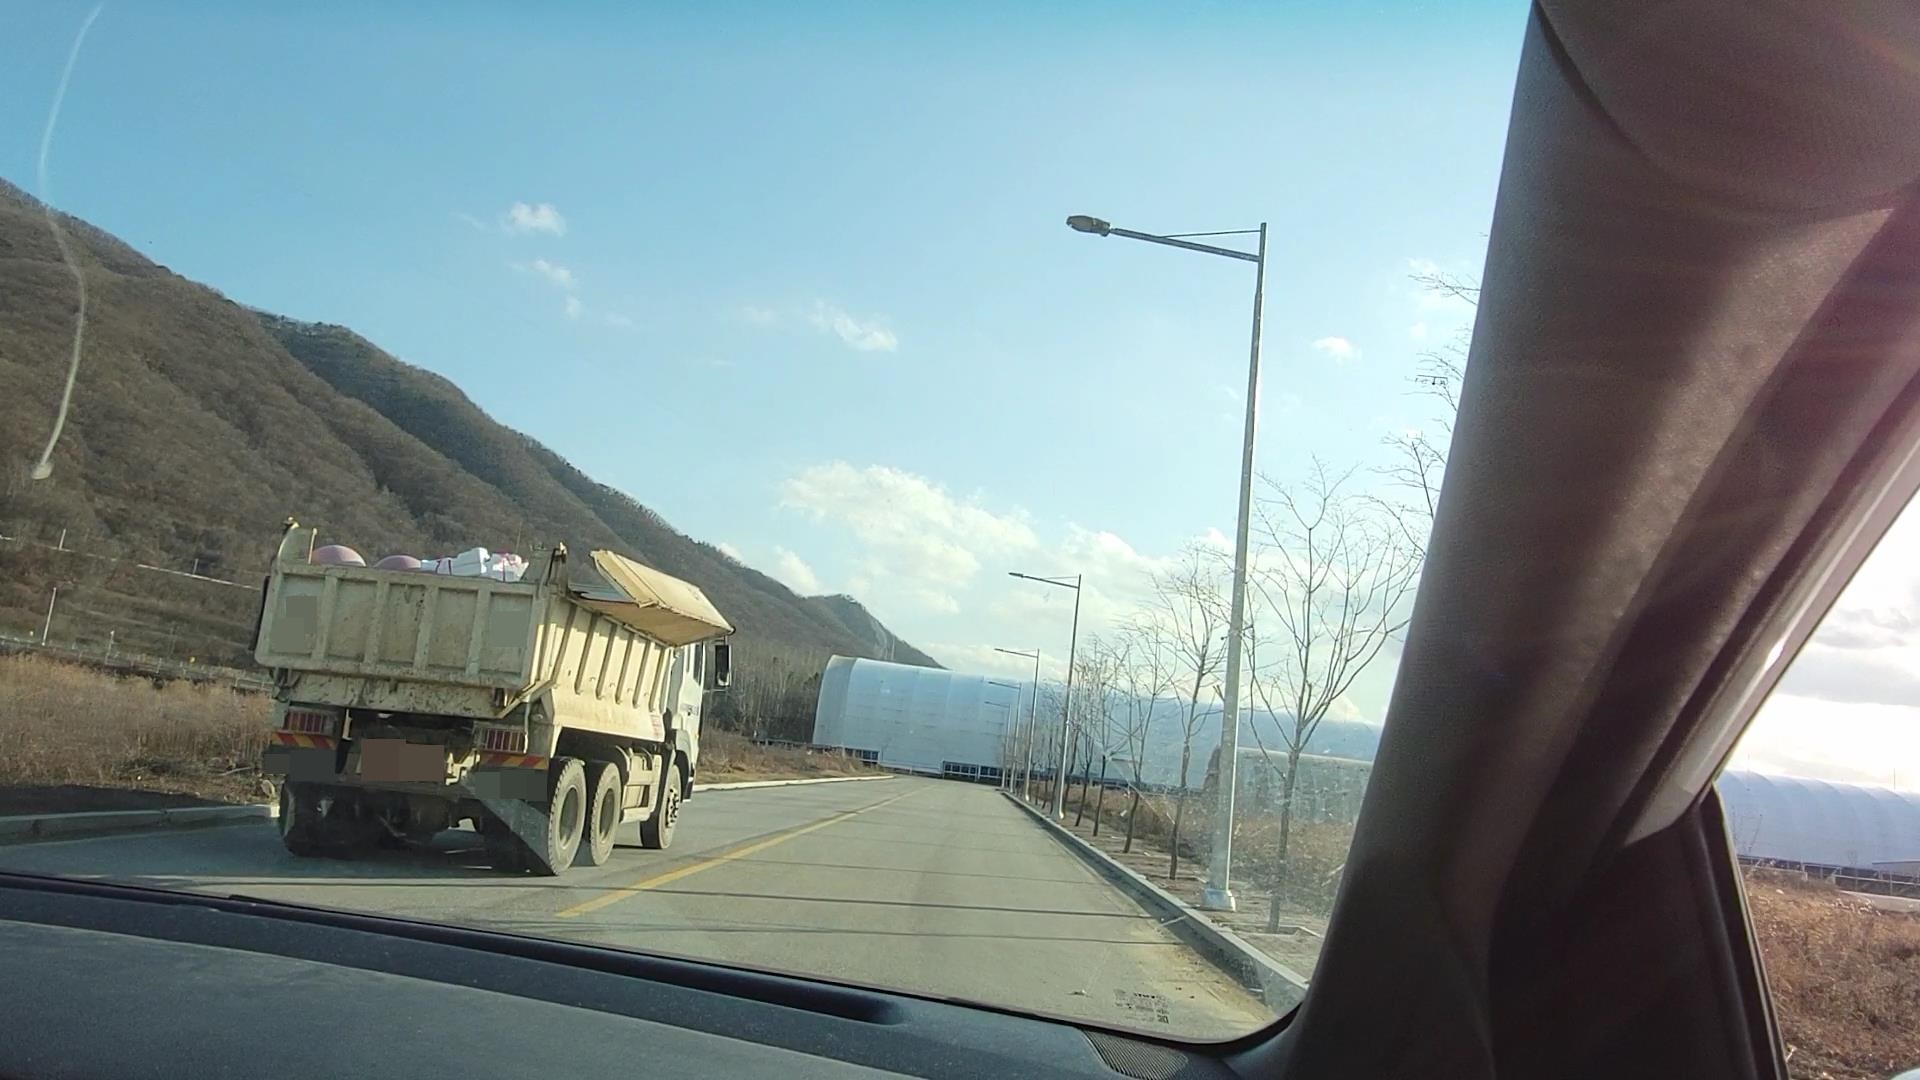불법차량: (247, 517, 737, 878)
